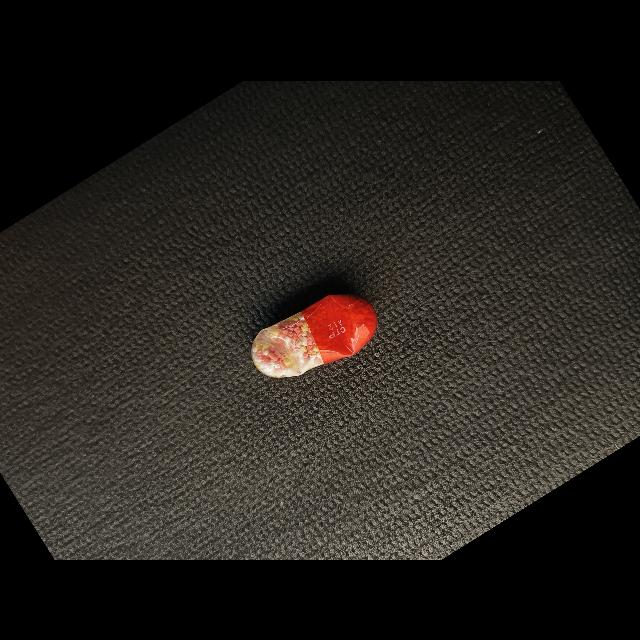Defective Capsule: (251, 294, 378, 377)
